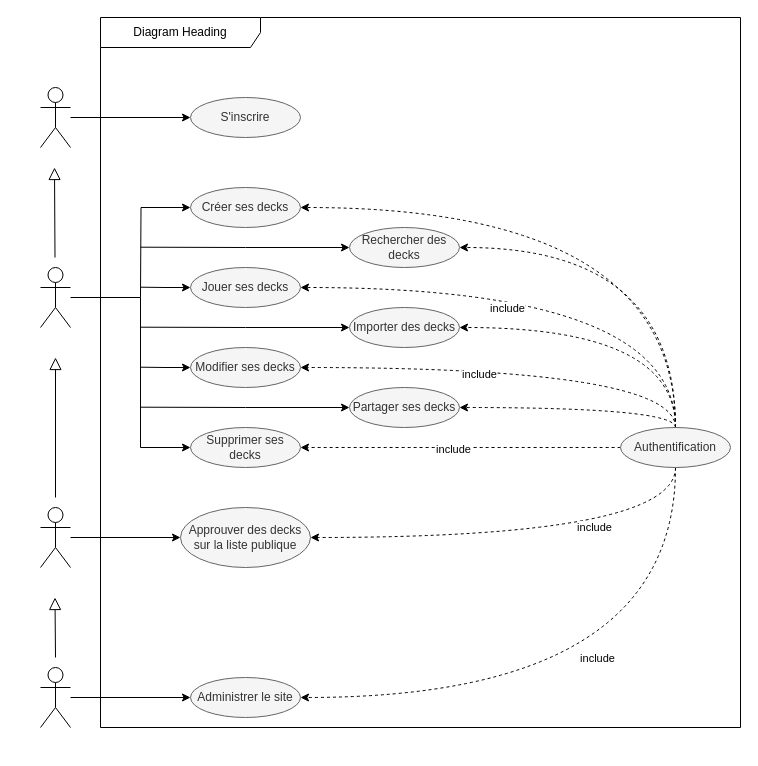
This 758x766 diagram has some shape labels left out. Here are the shapes that lost their labels. From the top down, the centre of each, then its label:
At [55,117]: "Visiteur".
At [55,297]: "Utilisateur".
At [55,537]: "Modérateur".
At [55,697]: "Administrateur".
